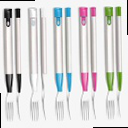fork: (101, 6, 116, 120)
